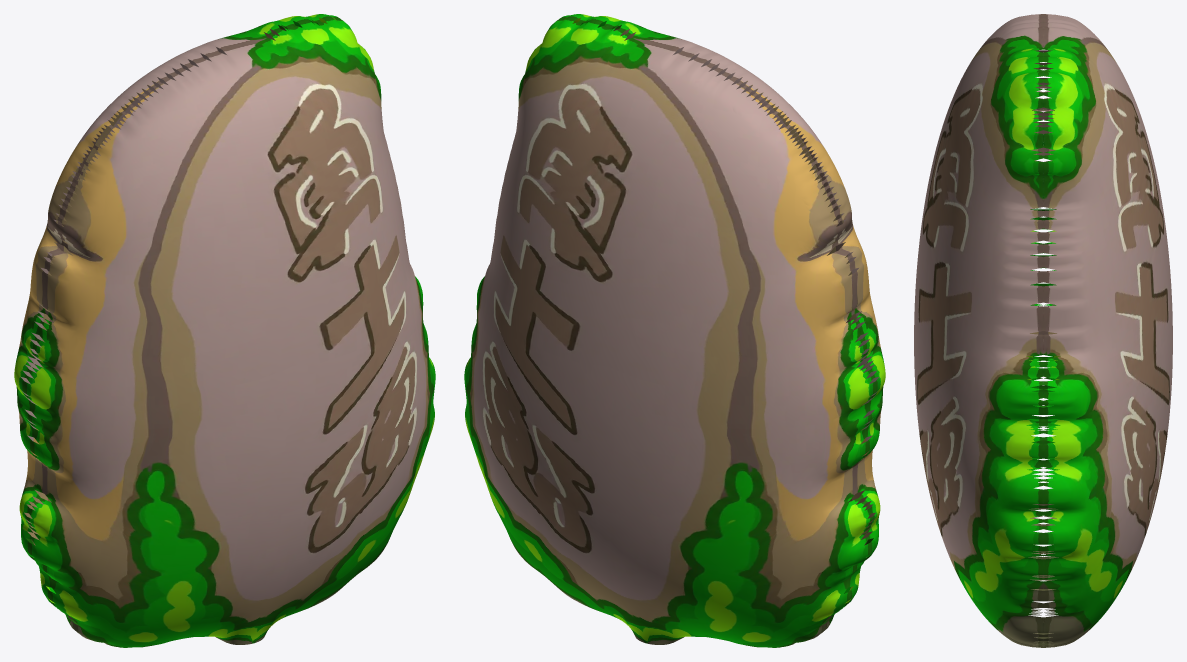
File: stone_tablet.glb
3 views of the same model, side by side, from view 1: azimuth 30°, elevation 25°; view 2: azimuth 150°, elevation 25°; view 3: azimuth 270°, elevation 25° (orthographic).
Visible parts, largest first — view 1: stone_tablet; view 2: stone_tablet; view 3: stone_tablet.
Boxes of the visible parts, bbox=[...] form: stone_tablet: bbox=[14, 14, 435, 647]; stone_tablet: bbox=[464, 14, 885, 647]; stone_tablet: bbox=[914, 14, 1172, 647].
Bounding box in the file's own units: 0.985 × 1.36 × 0.5411.
Materials: 1 (1 with a texture image).
